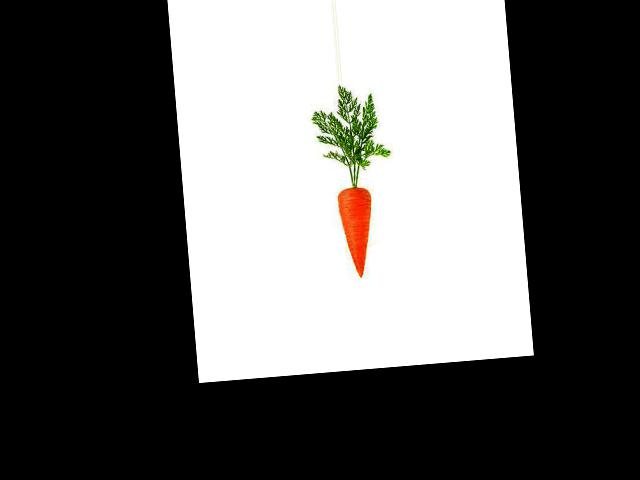carrot: (332, 183, 387, 281)
